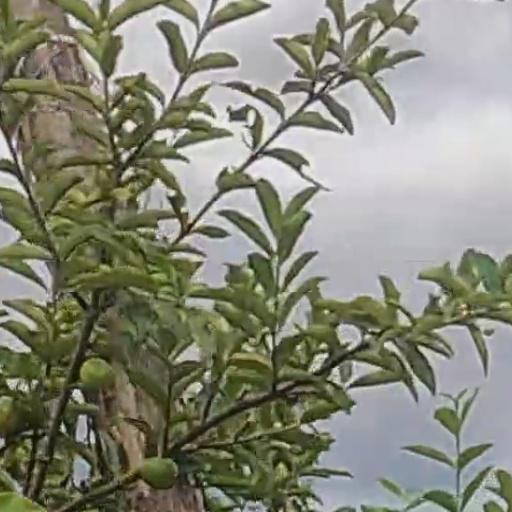acerola: (144, 459, 178, 489), (82, 362, 117, 388), (2, 396, 22, 433)
